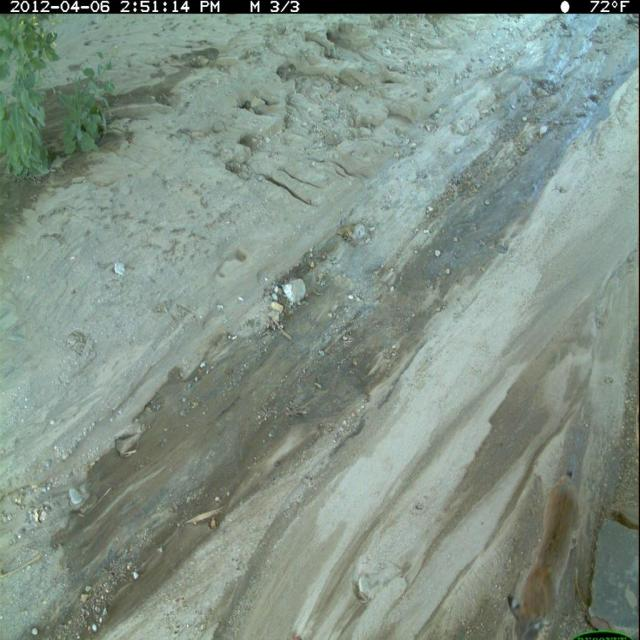bobcat: (506, 467, 588, 640)
